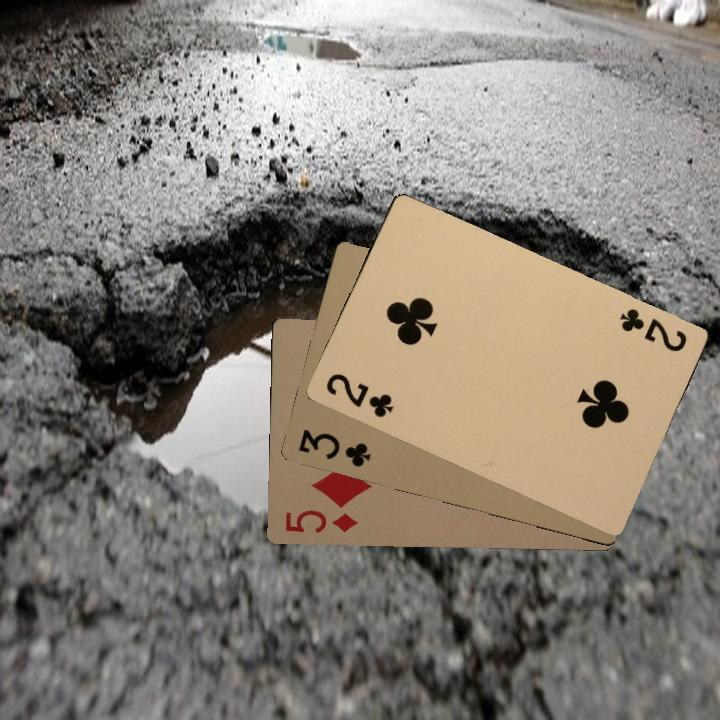2c: (321, 369, 397, 420), (616, 304, 690, 355)
3c: (294, 425, 373, 470)
5d: (281, 506, 360, 535)
